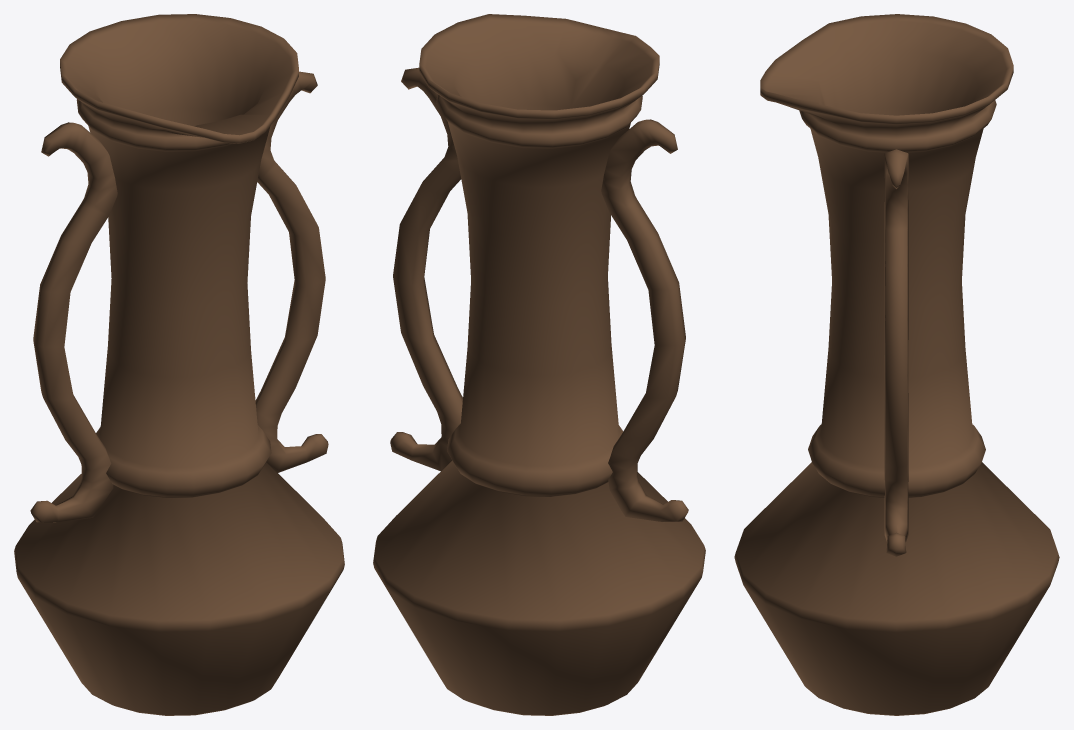
Rendered from Vase_2.fbx.
The picture shows the model from 3 angles, left to right: view 1: azimuth 30°, elevation 25°; view 2: azimuth 150°, elevation 25°; view 3: azimuth 270°, elevation 25°; orthographic projection.
Visible parts, largest first — view 1: Vase_2; view 2: Vase_2; view 3: Vase_2.
Part boxes in pixels (x1,y1,x2,y2): Vase_2: (14, 14, 344, 715); Vase_2: (373, 14, 705, 715); Vase_2: (734, 14, 1059, 715).
Size of the model in its own units: 55.88 by 111 by 53.3.
1 material, 1 textured.
